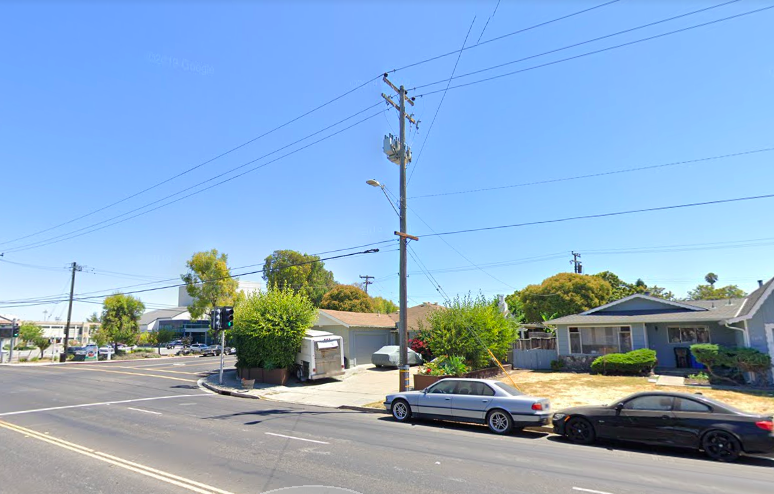utility_pole: (368, 63, 427, 171)
